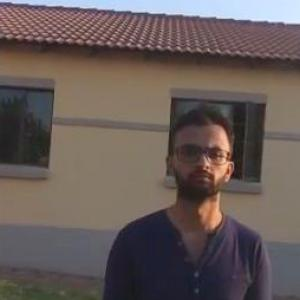follow: (89, 93, 278, 299)
